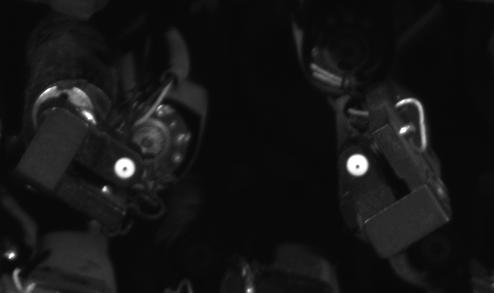fiber: (341, 150, 375, 182), (111, 153, 142, 185)
